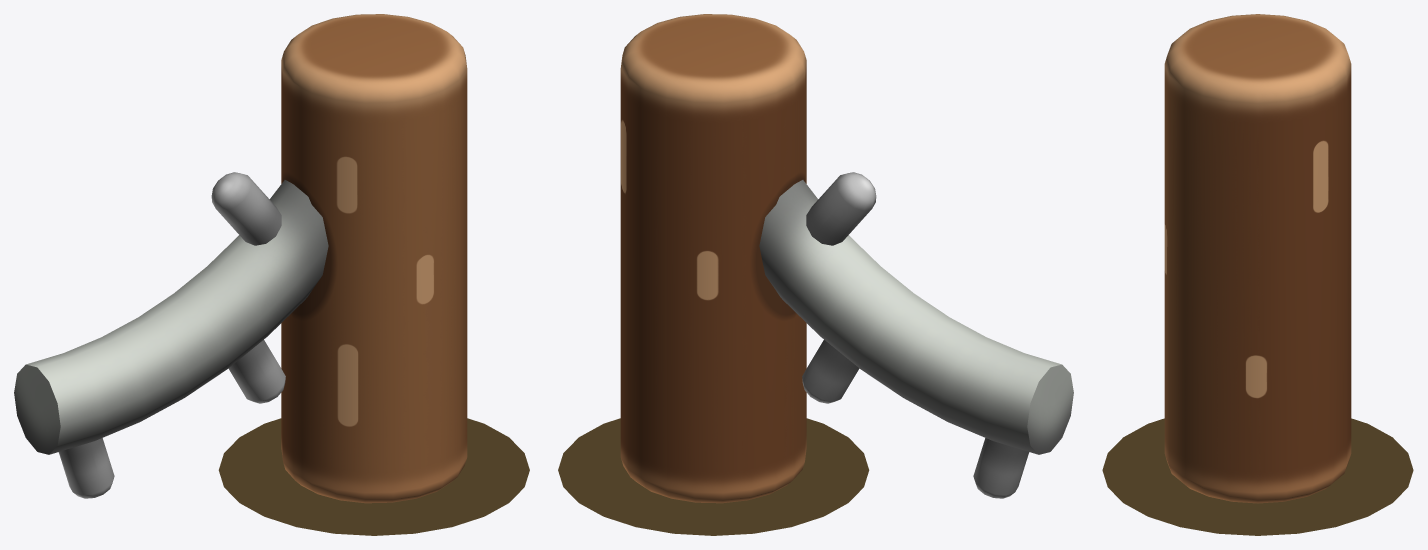
Rendered from FenceC_R.fbx.
3 renders of one model, left to right at view 1: azimuth 30°, elevation 25°; view 2: azimuth 150°, elevation 25°; view 3: azimuth 270°, elevation 25°, orthographic.
Visible parts, largest first — view 1: R_fenceWood, R_RLine, RfenceC2side_SDW; view 2: R_fenceWood, R_RLine, RfenceC2side_SDW; view 3: R_fenceWood, RfenceC2side_SDW.
Boxes of the visible parts, box(x1,y1,x2,y2) form: R_fenceWood: box(281, 14, 467, 503); R_RLine: box(14, 172, 328, 498); RfenceC2side_SDW: box(218, 418, 529, 535); R_fenceWood: box(620, 14, 806, 503); R_RLine: box(759, 172, 1073, 498); RfenceC2side_SDW: box(558, 418, 869, 535); R_fenceWood: box(1164, 14, 1351, 503); RfenceC2side_SDW: box(1102, 418, 1413, 535).
Size of the model in its own units: 70 by 60 by 40.
Materials: 2 (1 with a texture image).
